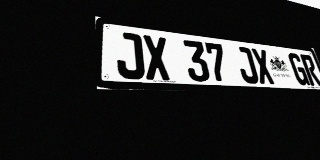3: (183, 40, 211, 82)
7: (203, 42, 231, 83)
G: (287, 53, 310, 85)
J: (115, 31, 146, 80), (234, 46, 260, 84)
R: (300, 54, 320, 86)
X: (142, 35, 172, 81), (250, 48, 276, 84)
